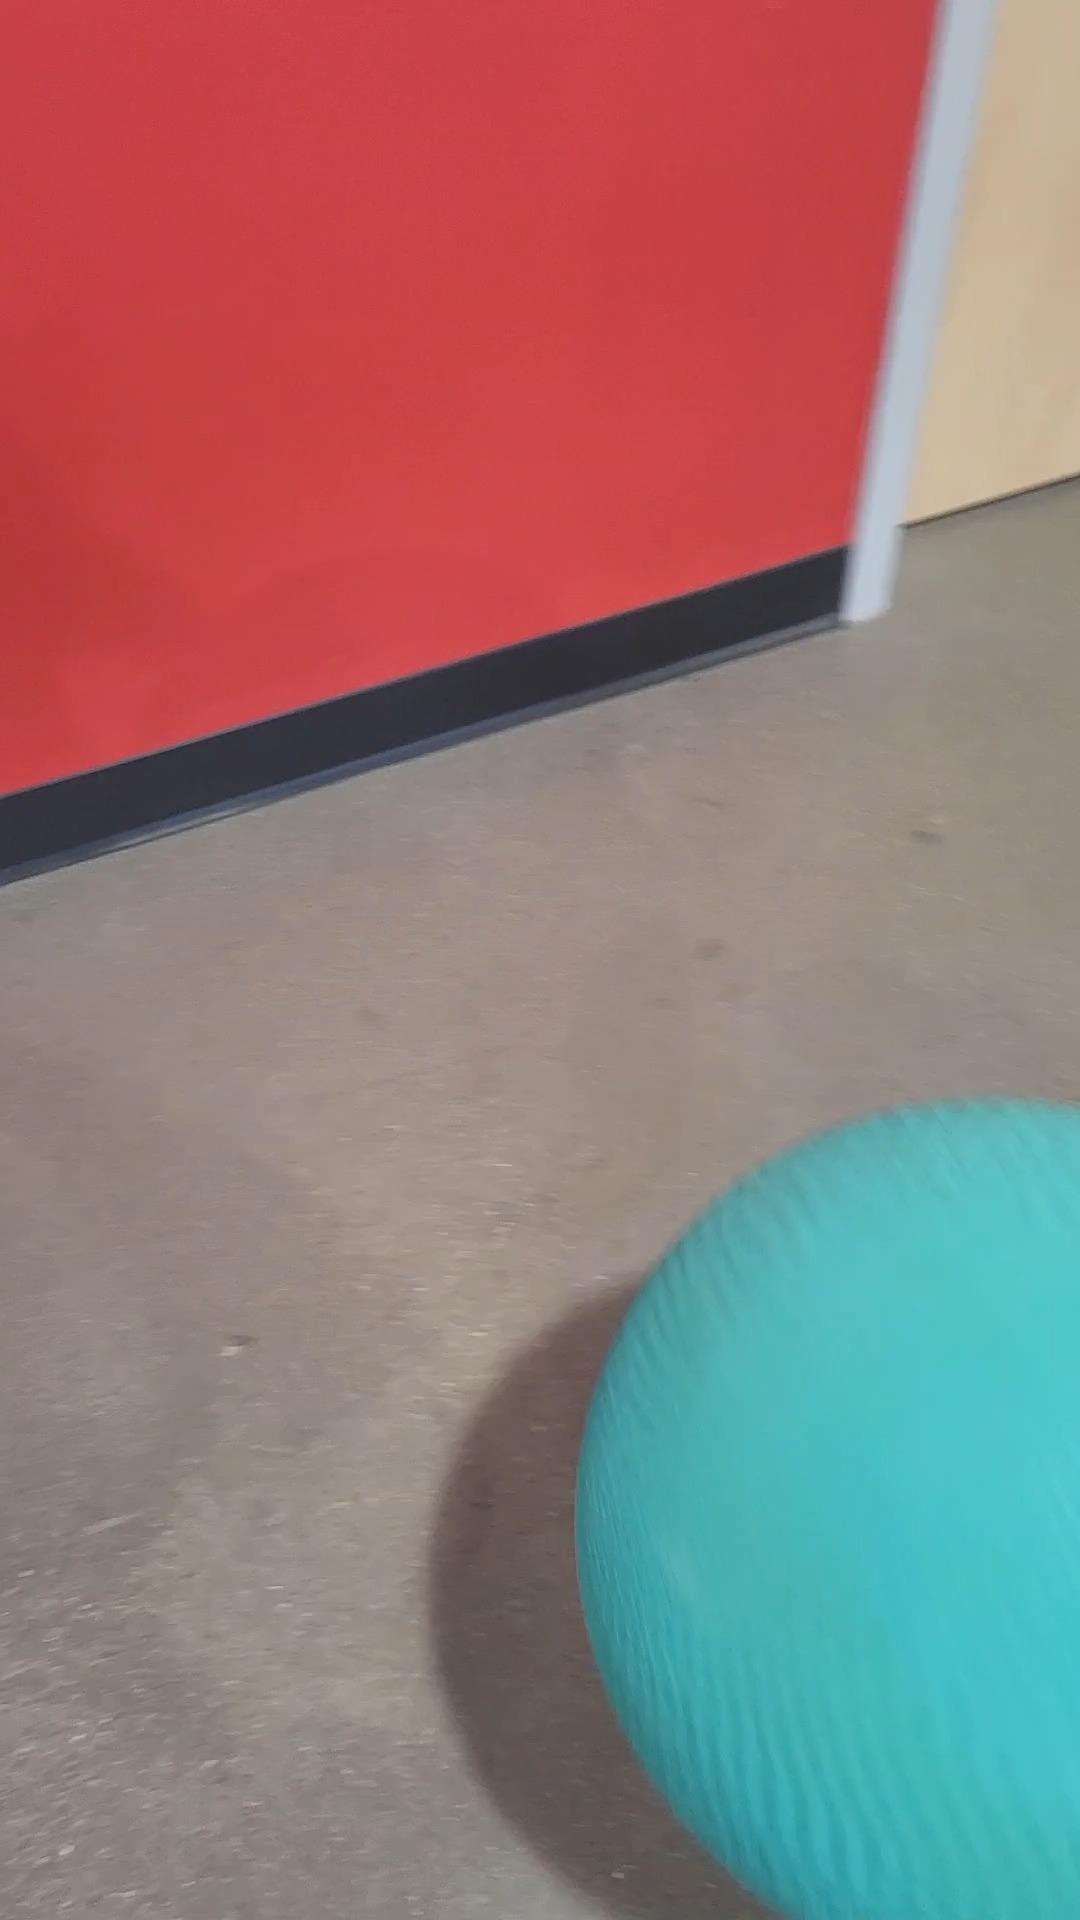algae: (576, 1091, 1080, 1920)
